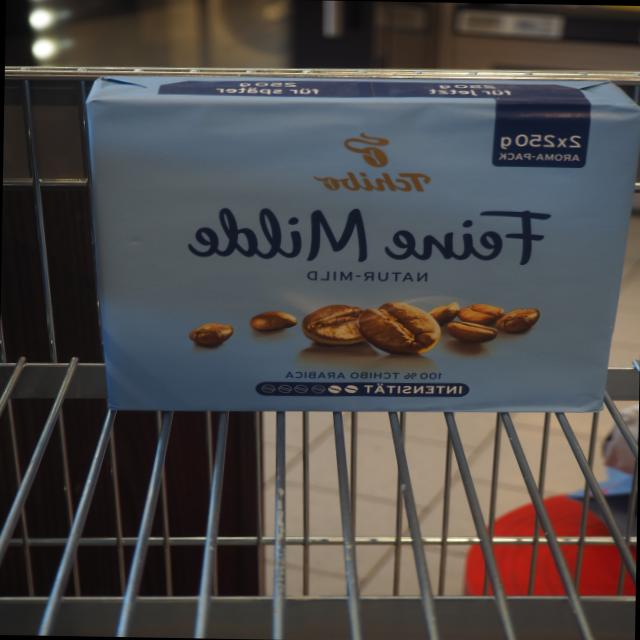FM Gemahlen: (76, 64, 640, 429)
